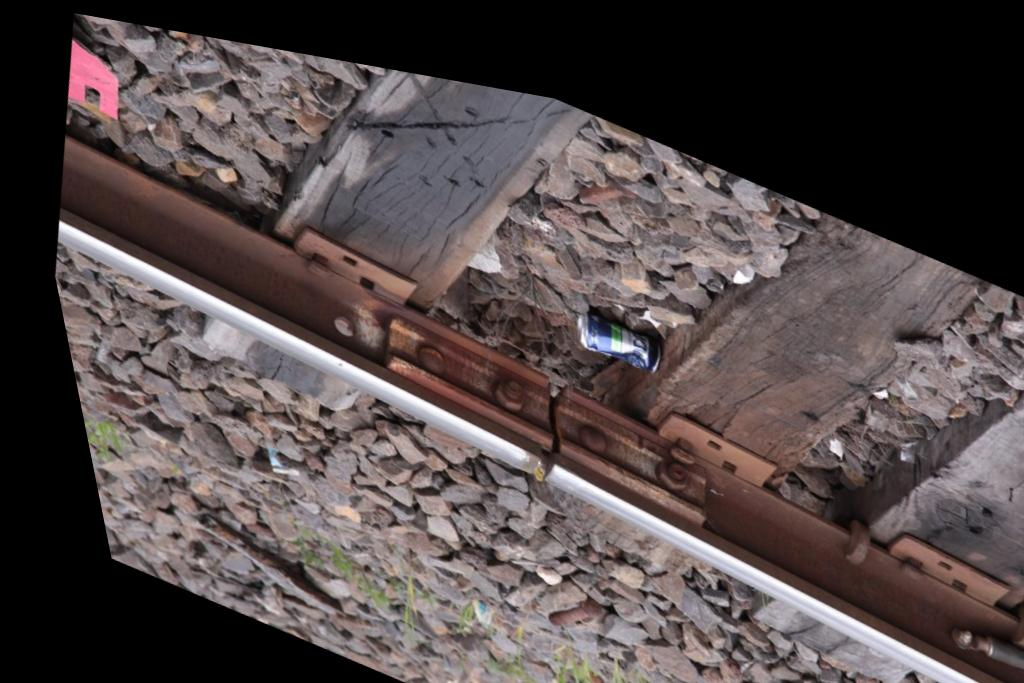person: (418, 287, 662, 536)
